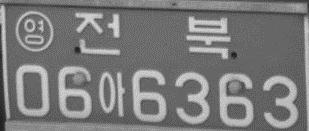0: (14, 63, 50, 117)
1: (14, 9, 54, 53)
3: (261, 73, 298, 129), (174, 70, 210, 126)
6: (217, 71, 254, 127), (130, 68, 167, 123), (56, 65, 92, 120)
아: (97, 72, 127, 119)
전북_D: (74, 11, 230, 60)
